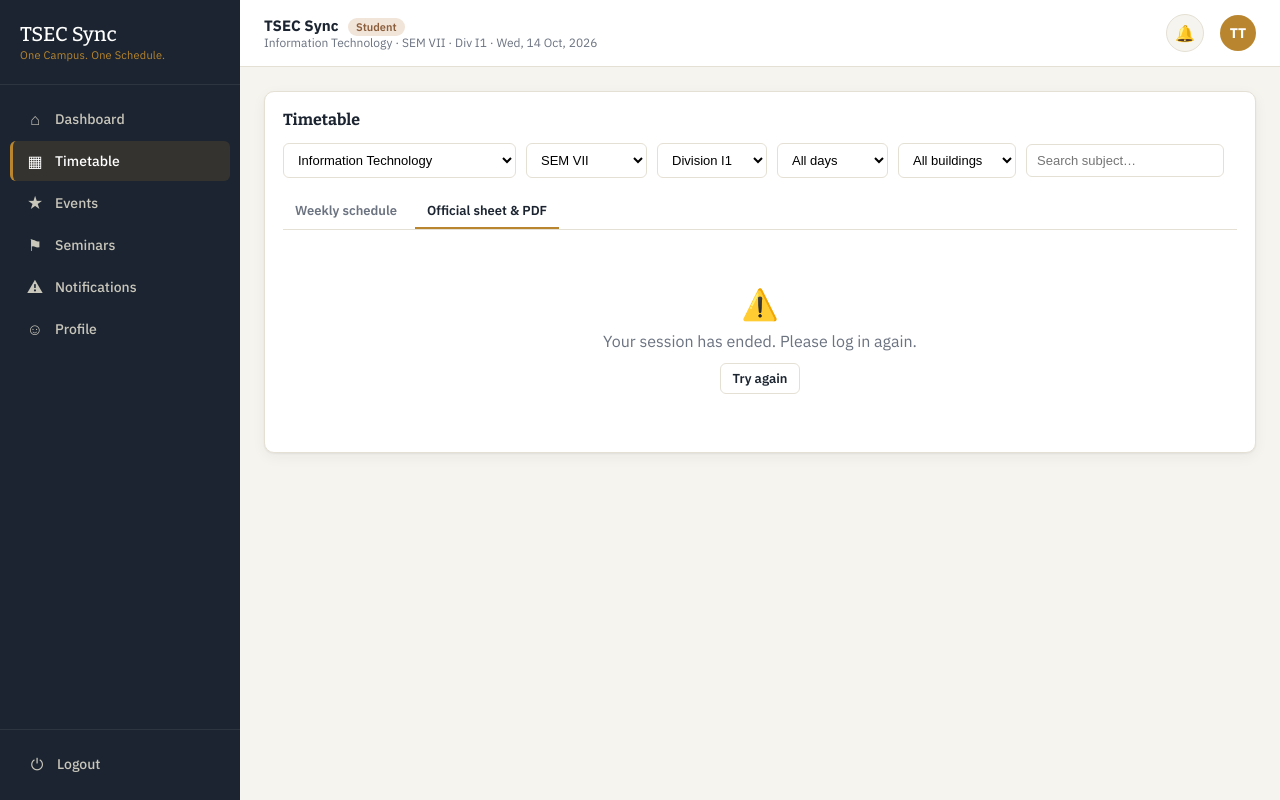
Test case: Task 1 — one Timetable tab › shows an error state with a retry
The image size is (1280, 800).
Expected: the message shows "session has ended", x1=603 y1=331 x2=917 y2=351
Click the button "Try again": (760, 379) x1=720 y1=363 x2=800 y2=394
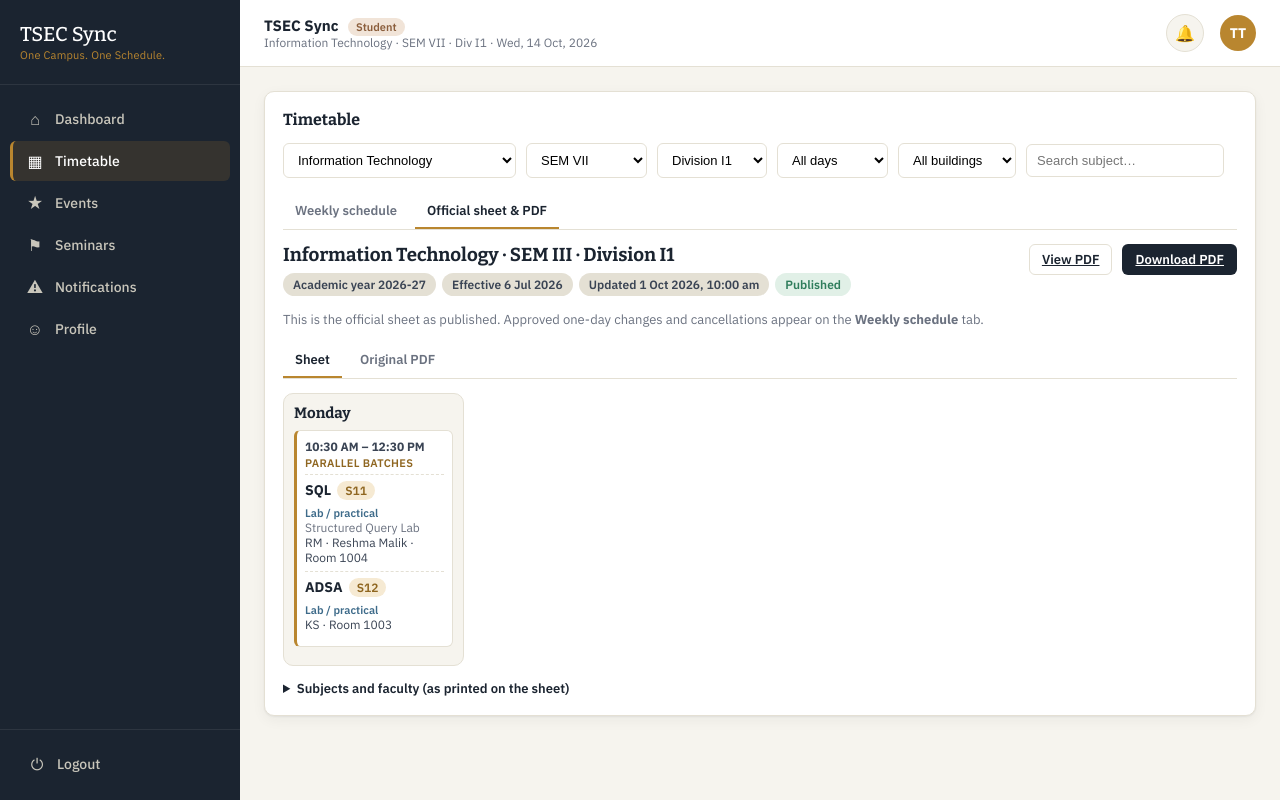
Expected: the heading "Information Technology · SEM III · Division I1" is shown, x1=283 y1=244 x2=674 y2=266
